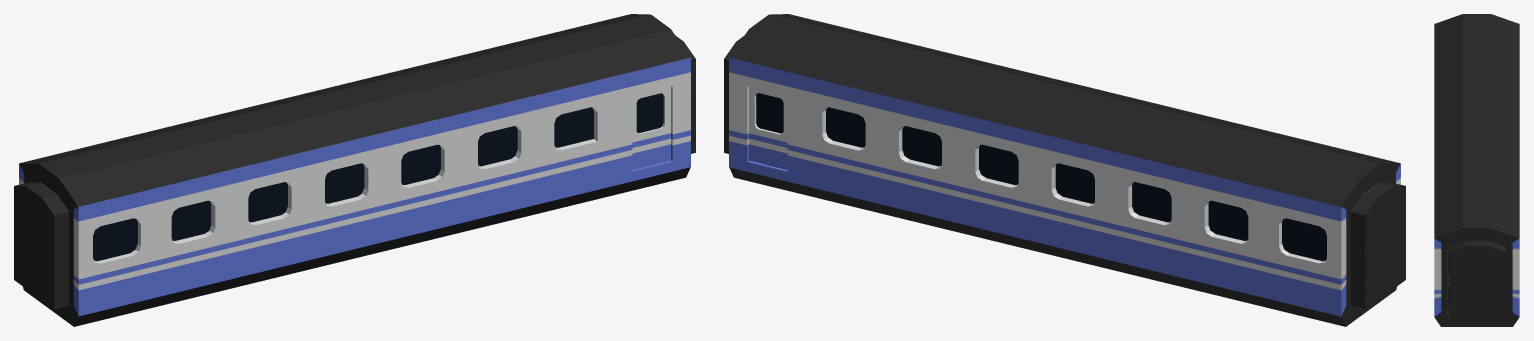
Rendered from train.gltf.
3 views of the same model, side by side, from view 1: azimuth 30°, elevation 25°; view 2: azimuth 150°, elevation 25°; view 3: azimuth 270°, elevation 25° (orthographic). The views are drawn at different scales.
Parts seen in each view (by area): view 1: Train.006; view 2: Train.006; view 3: Train.006.
Boxes of the visible parts, <box> form: Train.006: <box>14,14,695,326</box>; Train.006: <box>724,14,1405,326</box>; Train.006: <box>1434,14,1519,326</box>.
Bounding box in the file's own units: 4.35 × 0.8907 × 0.7.
Materials: 1 (1 with a texture image).
